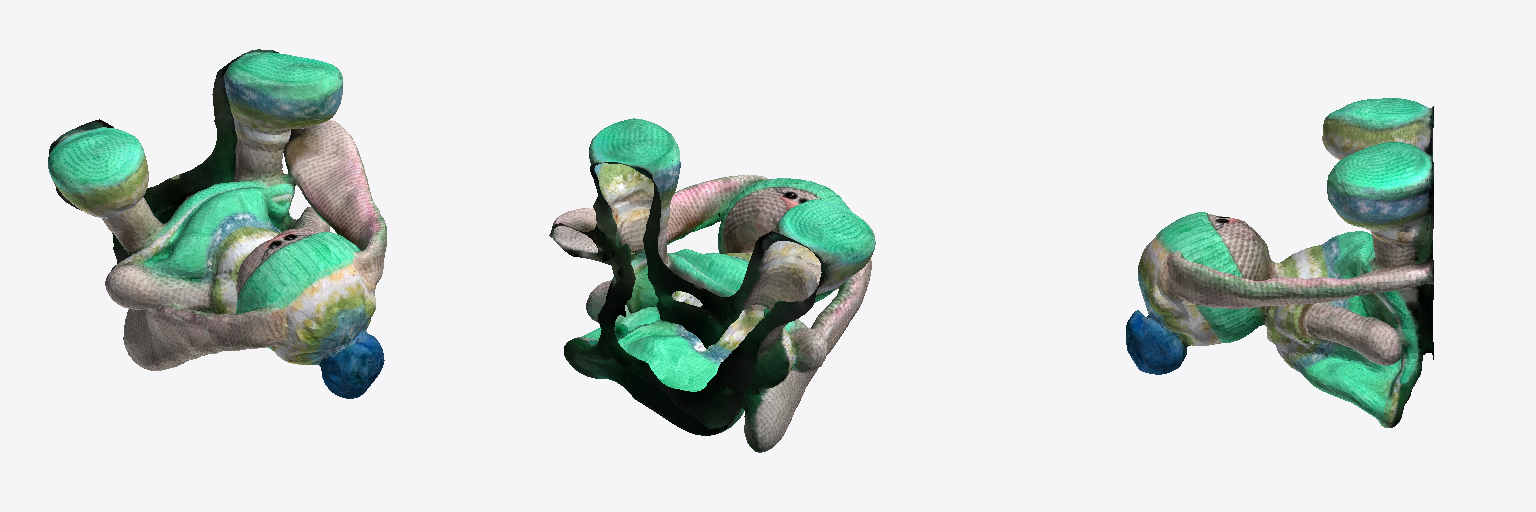
The picture shows the model from 3 angles: view 1: azimuth 30°, elevation 25°; view 2: azimuth 150°, elevation 25°; view 3: azimuth 270°, elevation 25°; orthographic projection.
Bounding box in the file's own units: 0.5881 × 0.5232 × 0.5276.
Materials: 1 (1 with a texture image).